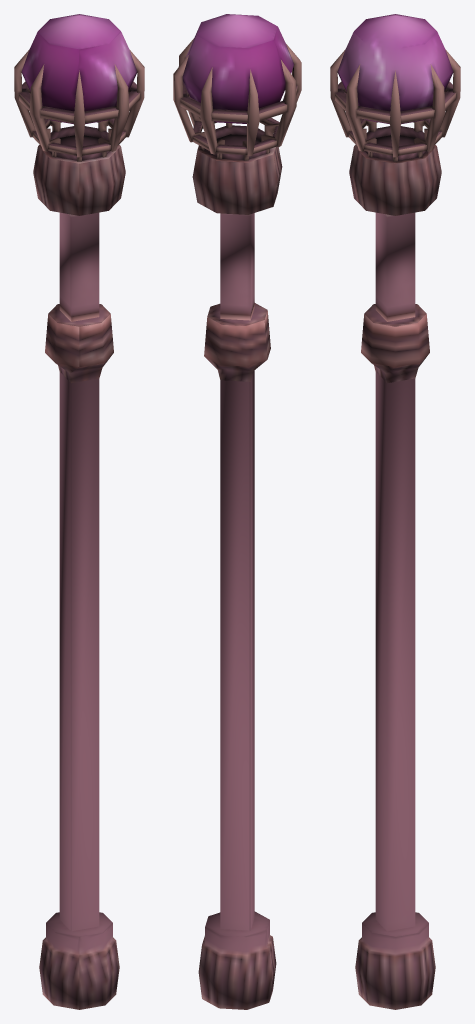
File: Staff Legendary 1.fbx
3 views of the same model, side by side, from view 1: azimuth 90°, elevation 25°; view 2: azimuth 150°, elevation 25°; view 3: azimuth 270°, elevation 25° (orthographic).
Parts seen in each view (by area): view 1: TableTop_Staff1; view 2: TableTop_Staff1; view 3: TableTop_Staff1.
Part boxes in pixels (x1=…): TableTop_Staff1: x1=14, y1=14, x2=144, y2=1009; TableTop_Staff1: x1=173, y1=14, x2=301, y2=1009; TableTop_Staff1: x1=330, y1=14, x2=460, y2=1009.
Bounding box in the file's own units: 0.2302 × 1.9 × 0.2302.
